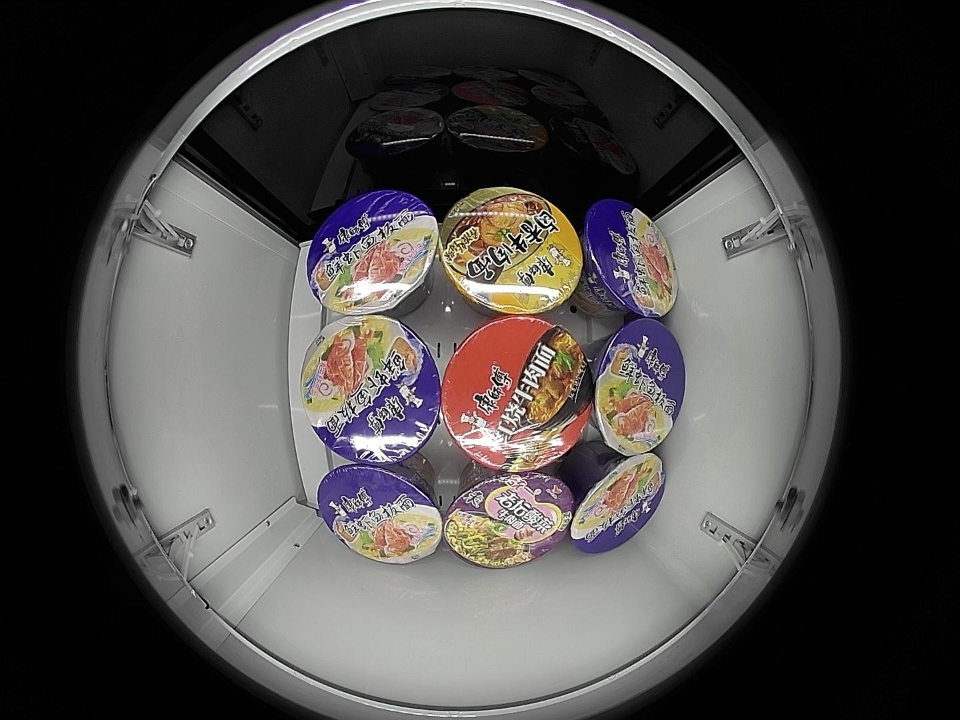hongshaoniurou: (441, 316, 594, 471)
laotansuancai: (442, 470, 575, 570)
luxiangniurou: (438, 187, 583, 316)
xianxiayuban: (299, 316, 442, 464), (306, 189, 440, 315), (590, 319, 686, 455), (314, 469, 442, 569), (582, 199, 677, 318), (569, 453, 666, 553)
